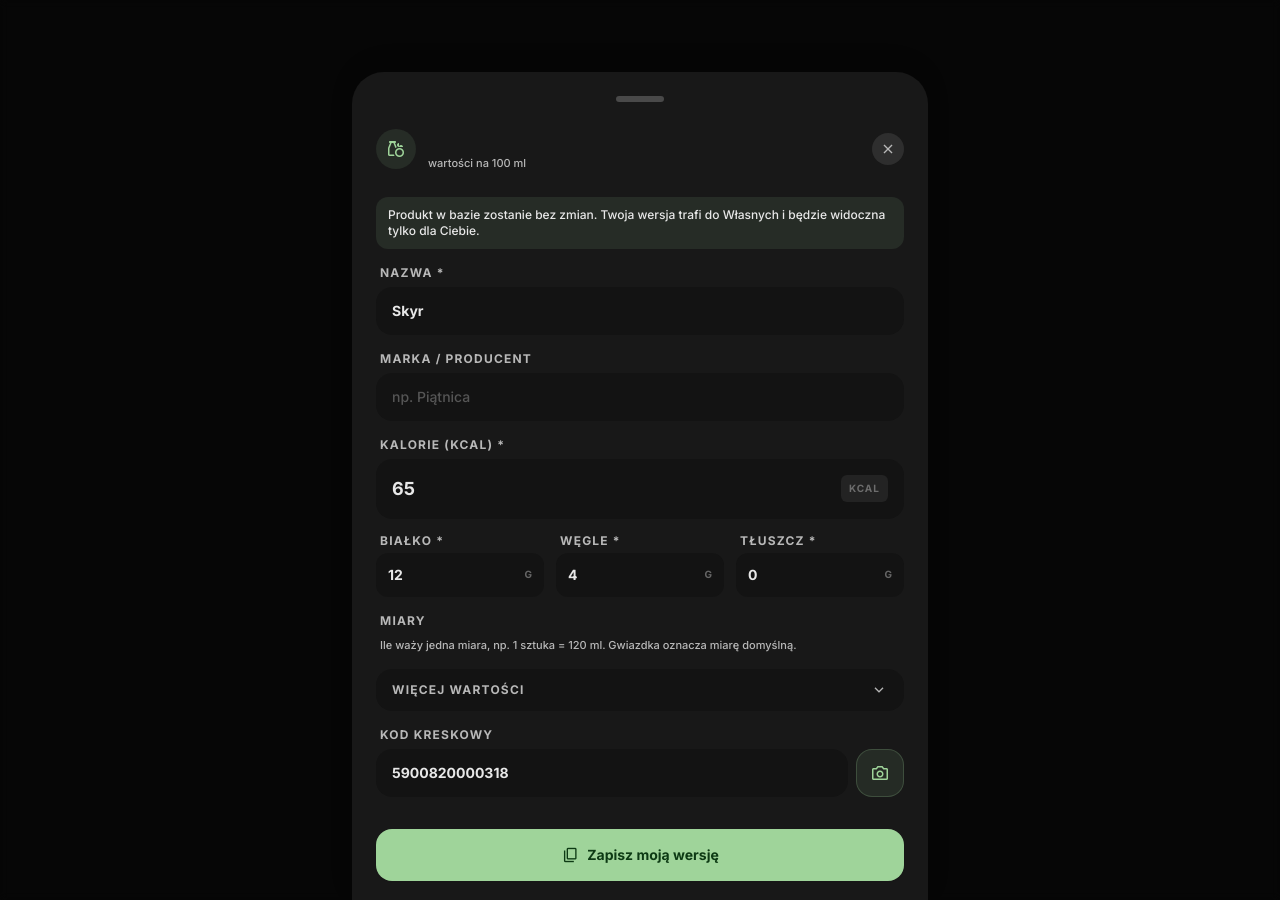
Test: NewProductSheet layout and modes › blocks an own version that takes the bar code of another product
Replace the text in the field labelled "Kod kreskowy" with "5901234123457" at (612, 773), box 376,749 -> 848,797
(page scrolled)
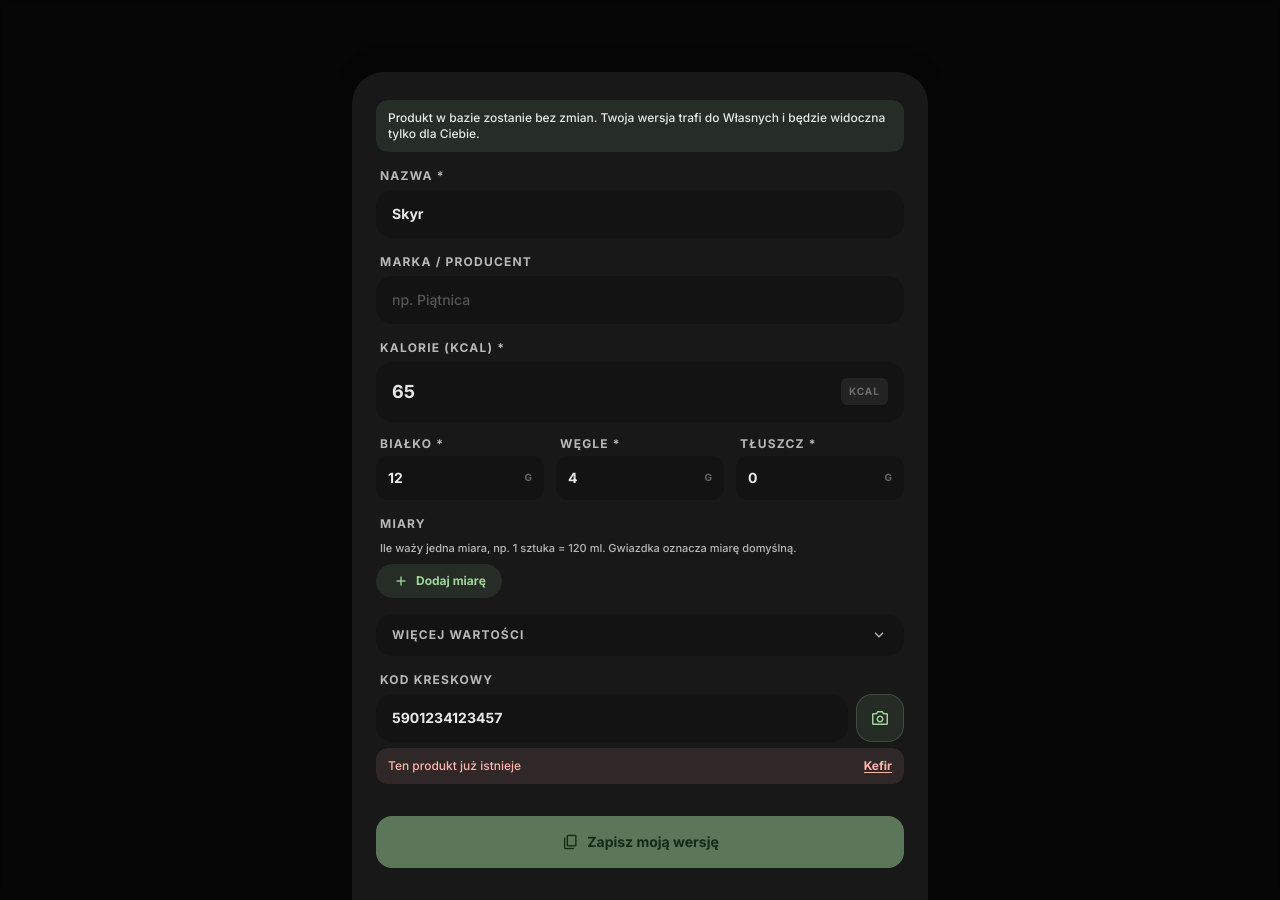
Now the text "Ten produkt już istnieje" is shown, box 388,758 -> 521,774
Now the button "Zapisz moją wersję" is disabled, box 376,816 -> 904,868
